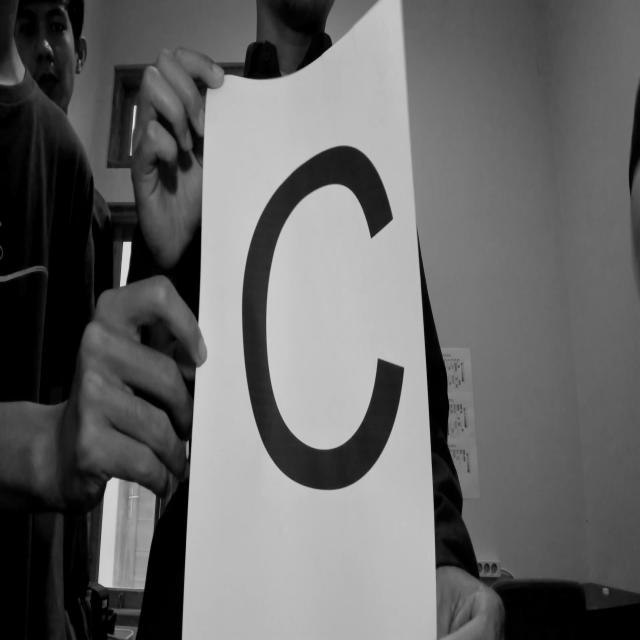c: (235, 133, 408, 498)
